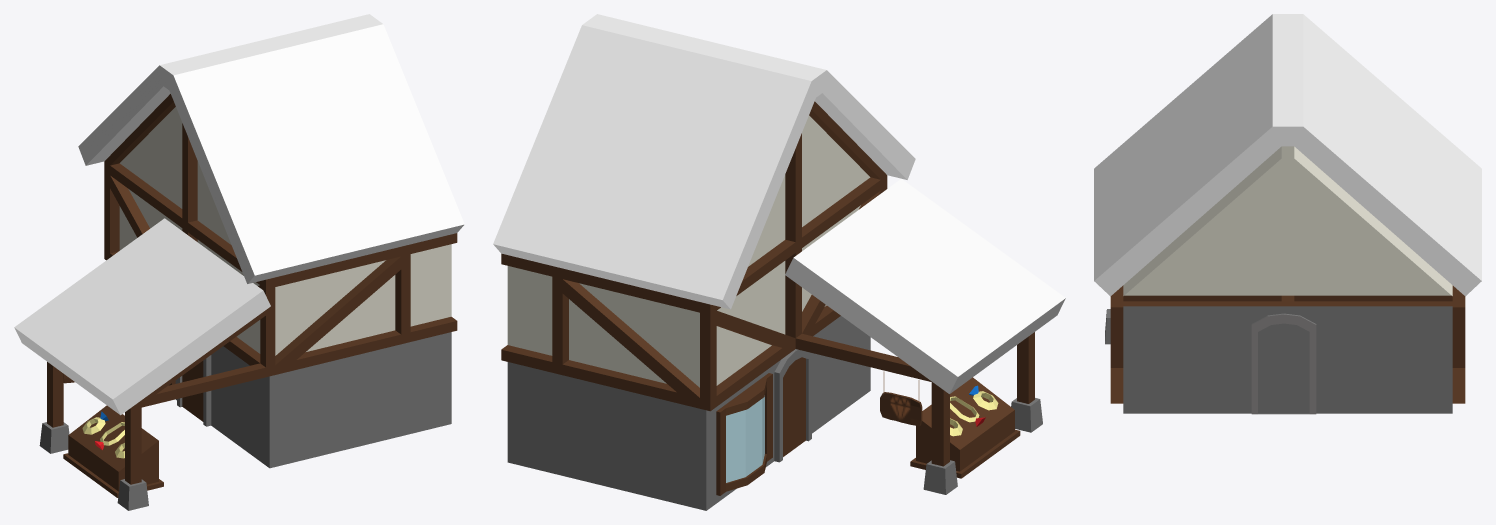
Rendered from Jeweller Cap.fbx.
3 renders of one model, left to right at view 1: azimuth 30°, elevation 25°; view 2: azimuth 150°, elevation 25°; view 3: azimuth 270°, elevation 25°, orthographic. The views are drawn at different scales.
Visible parts, largest first — view 1: Jeweller Cap; view 2: Jeweller Cap; view 3: Jeweller Cap.
Part boxes in pixels (box(x1,y1,x2,y2)): Jeweller Cap: box(14, 14, 464, 510); Jeweller Cap: box(493, 14, 1065, 510); Jeweller Cap: box(1094, 14, 1481, 414).
Bounding box in the file's own units: 0.9368 × 0.8963 × 0.8196.
